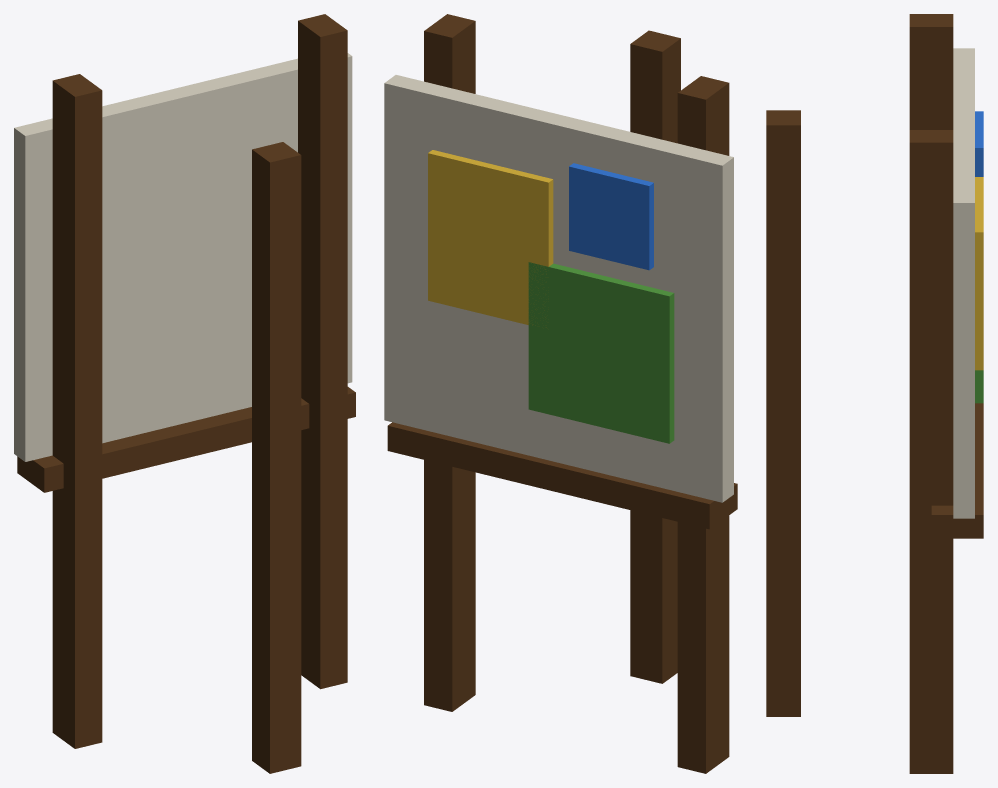
The model's file is th-easel.glb.
3 views of the same model, side by side, from view 1: azimuth 30°, elevation 25°; view 2: azimuth 150°, elevation 25°; view 3: azimuth 270°, elevation 25° (orthographic). The views are drawn at different scales.
Visible parts, largest first — view 1: box-prop; view 2: box-prop; view 3: box-prop.
Boxes of the visible parts, left/top/right/bottom form: box-prop: left=14, top=14, right=355, bottom=773; box-prop: left=384, top=14, right=737, bottom=773; box-prop: left=766, top=14, right=983, bottom=773.
Size of the model in its own units: 0.84 by 1.6 by 0.5.
